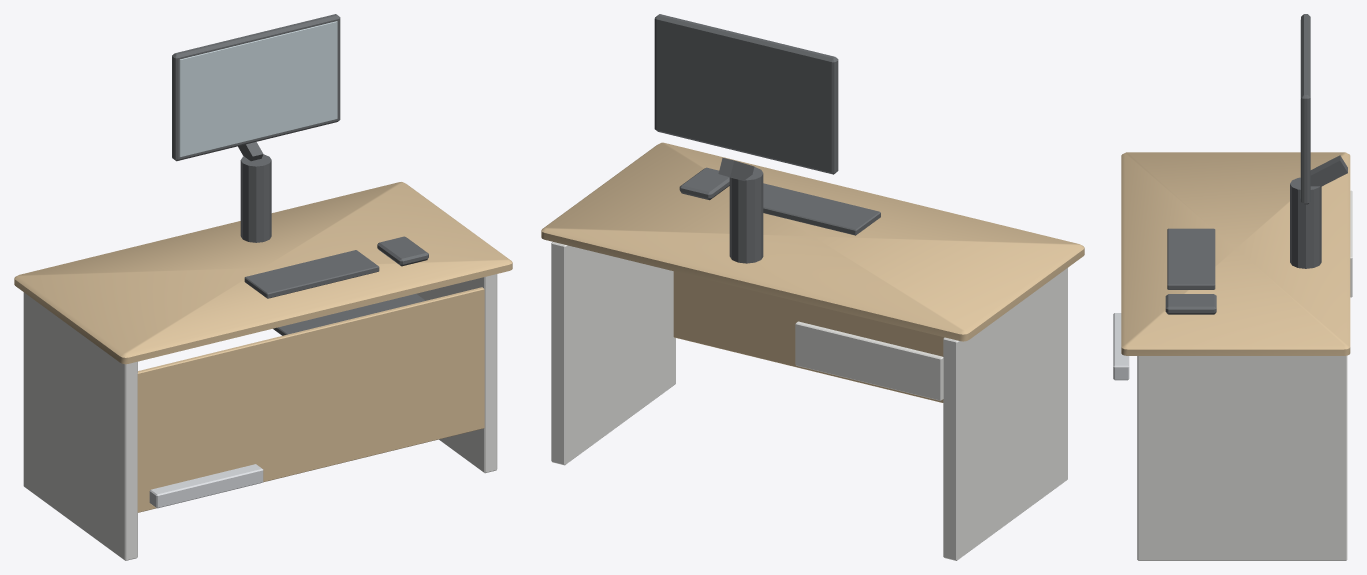
3 renders of one model, left to right at view 1: azimuth 30°, elevation 25°; view 2: azimuth 150°, elevation 25°; view 3: azimuth 270°, elevation 25°, orthographic. The views are drawn at different scales.
Parts seen in each view (by area): view 1: quotation-desk-with-screen; view 2: quotation-desk-with-screen, plan-drawer/carcass; view 3: quotation-desk-with-screen, plan-drawer/carcass.
Boxes of the visible parts, x1=… form: quotation-desk-with-screen: x1=14, y1=14, x2=512, y2=560; quotation-desk-with-screen: x1=541, y1=14, x2=1084, y2=560; plan-drawer/carcass: x1=795, y1=321, x2=943, y2=400; quotation-desk-with-screen: x1=1113, y1=14, x2=1350, y2=560; plan-drawer/carcass: x1=1350, y1=190, x2=1352, y2=297.
Bounding box in the file's own units: 1.46 × 1.48 × 0.752.
